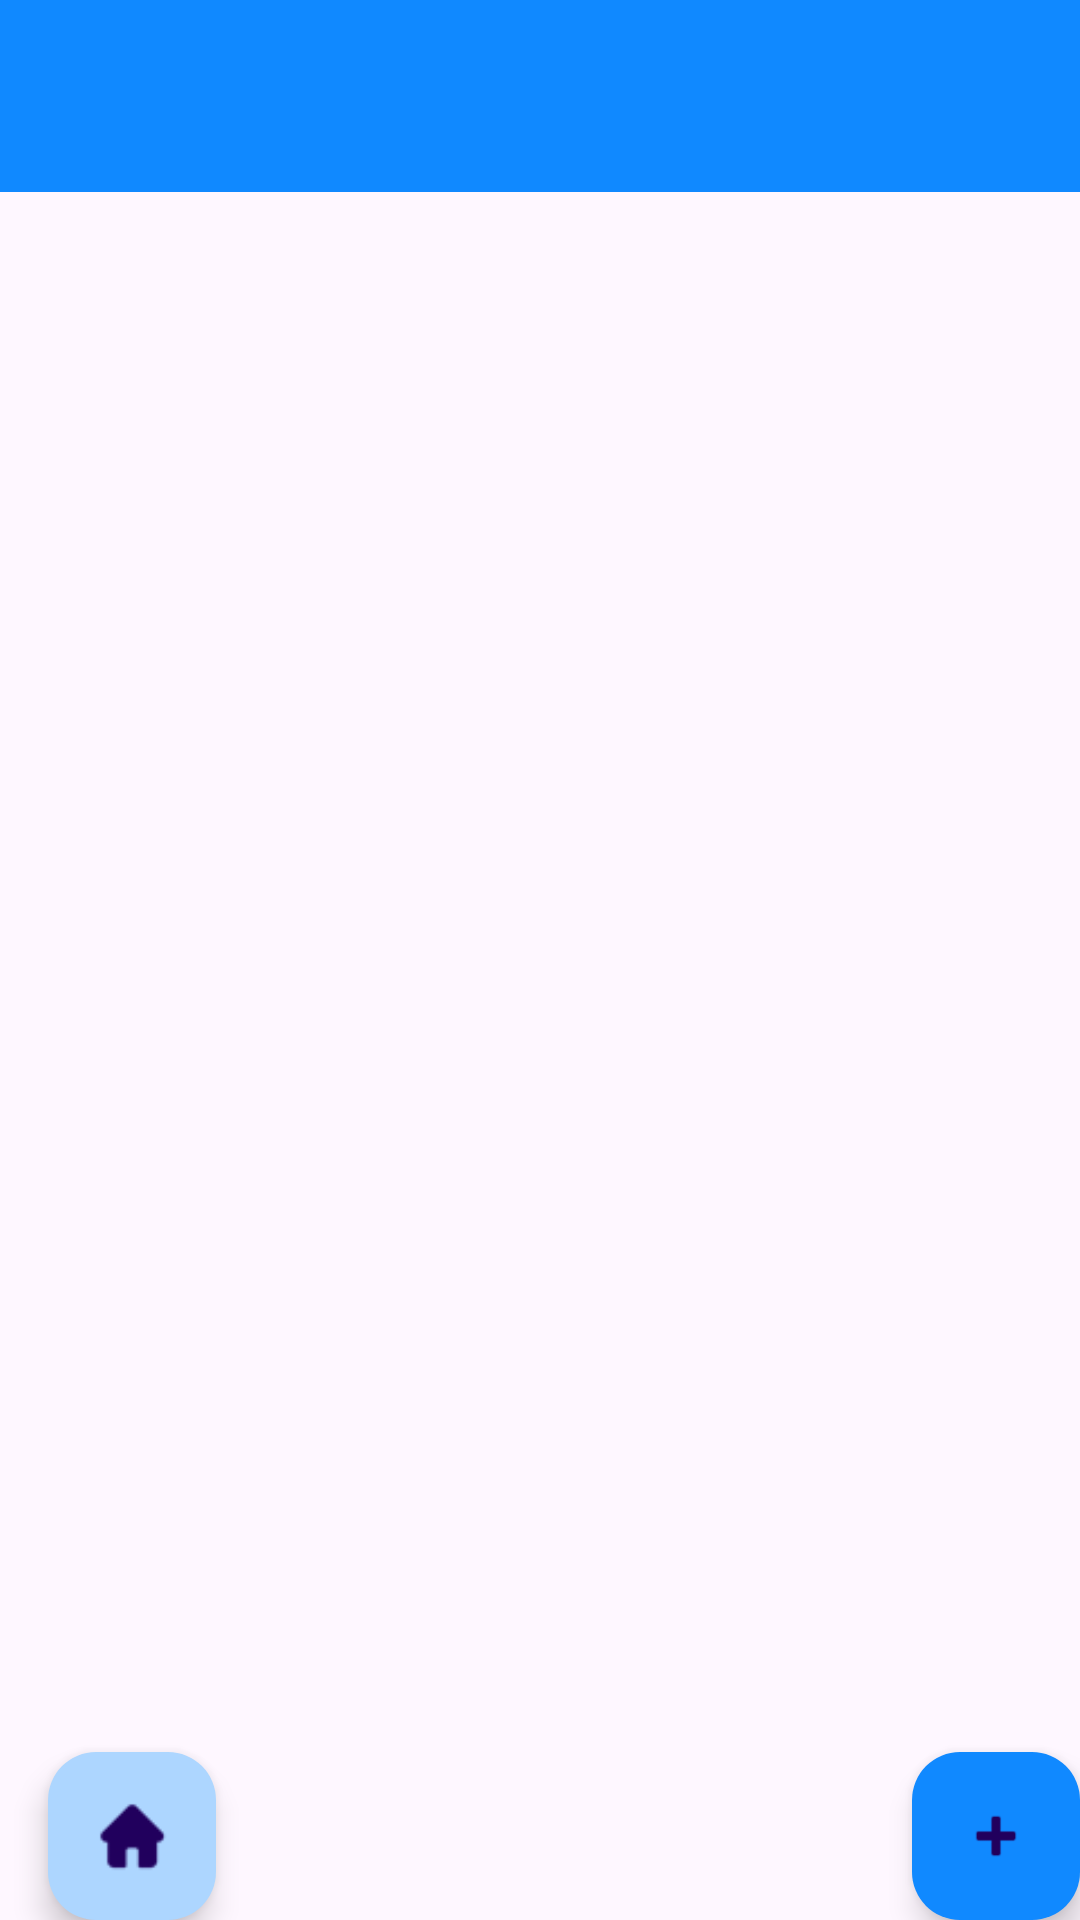

Screen size 1080w x 1920h. Icon name, then its center in pixels as point (x, y):
add: point (996, 1836)
homeblue: point (132, 1836)
